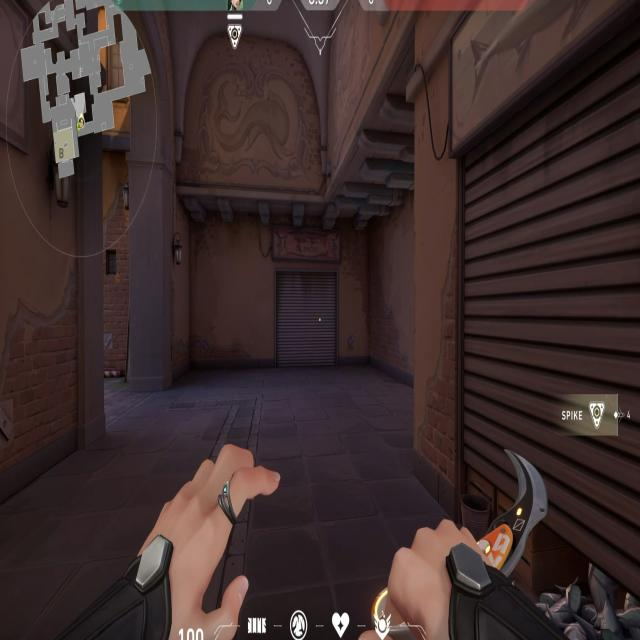B_Main_Corner: (405, 0, 640, 640)
